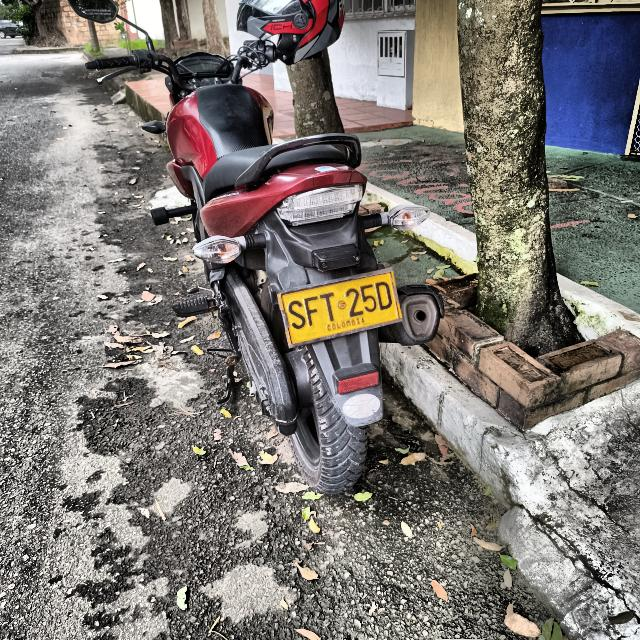plate: (278, 269, 402, 347)
